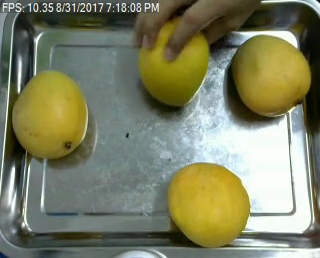Mango: (166, 163, 251, 247), (11, 69, 89, 158), (230, 35, 313, 118), (139, 23, 207, 103)
